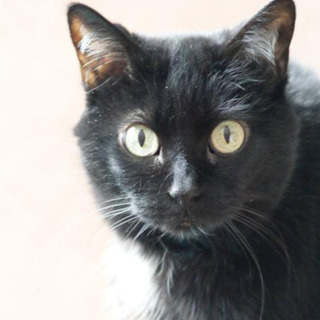gato: (44, 2, 304, 301)
